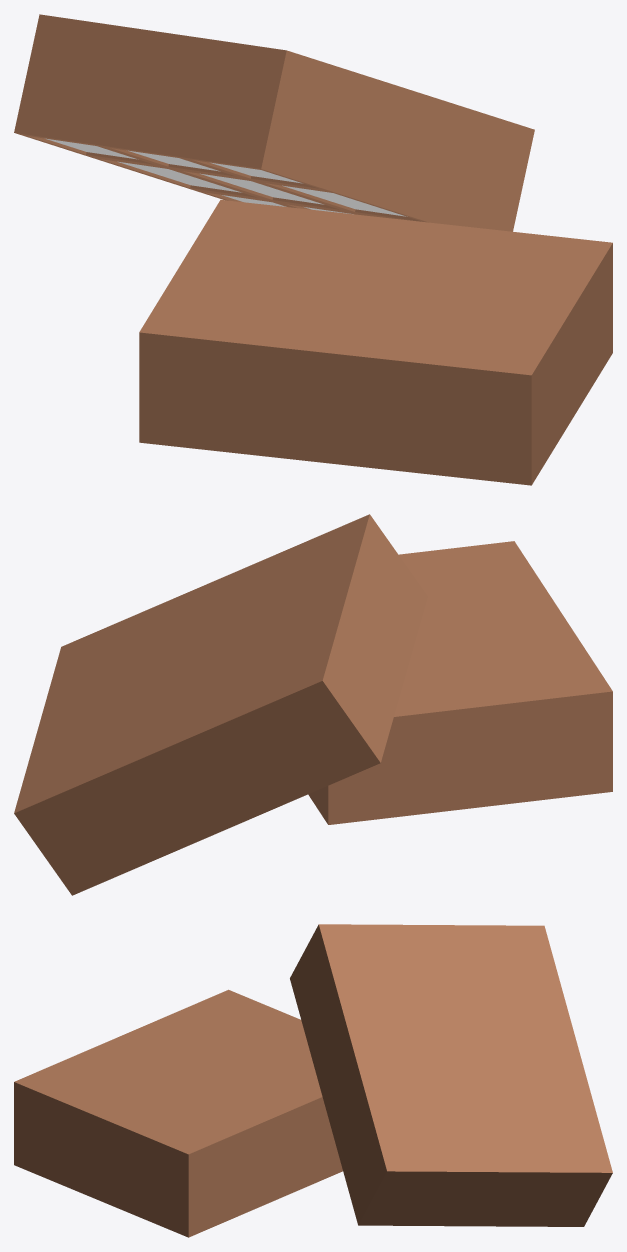
File: Jatoh Lemari.fbx
3 renders of one model, top to bottom at view 1: azimuth 30°, elevation 25°; view 2: azimuth 150°, elevation 25°; view 3: azimuth 270°, elevation 25°, orthographic. The views are drawn at different scales.
Parts seen in each view (by area): view 1: lemari.001, lemari; view 2: lemari, lemari.001; view 3: lemari, lemari.001.
Part boxes in pixels (bbox=[...]): lemari.001: bbox=[139, 199, 612, 485]; lemari: bbox=[14, 14, 534, 231]; lemari: bbox=[14, 514, 427, 895]; lemari.001: bbox=[308, 541, 612, 824]; lemari: bbox=[290, 924, 612, 1226]; lemari.001: bbox=[14, 989, 342, 1237].
Bounding box in the file's own units: 285 × 178 × 391.
